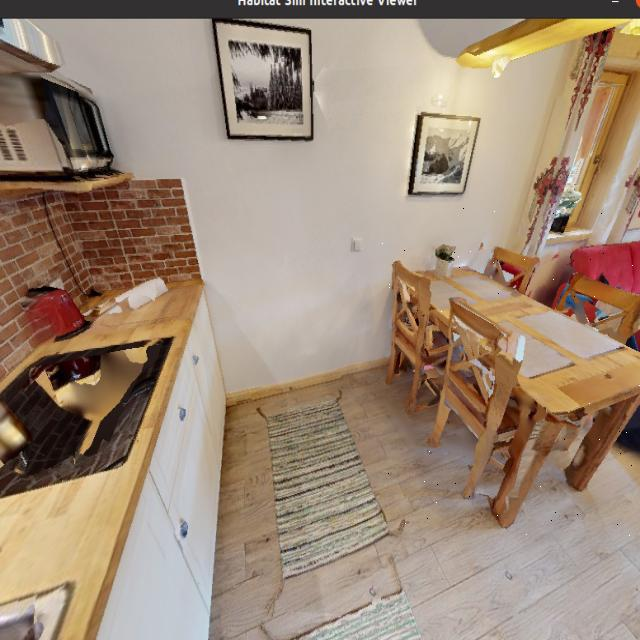chair: (434, 305, 559, 482), (392, 253, 446, 409)
table: (382, 207, 640, 541)
